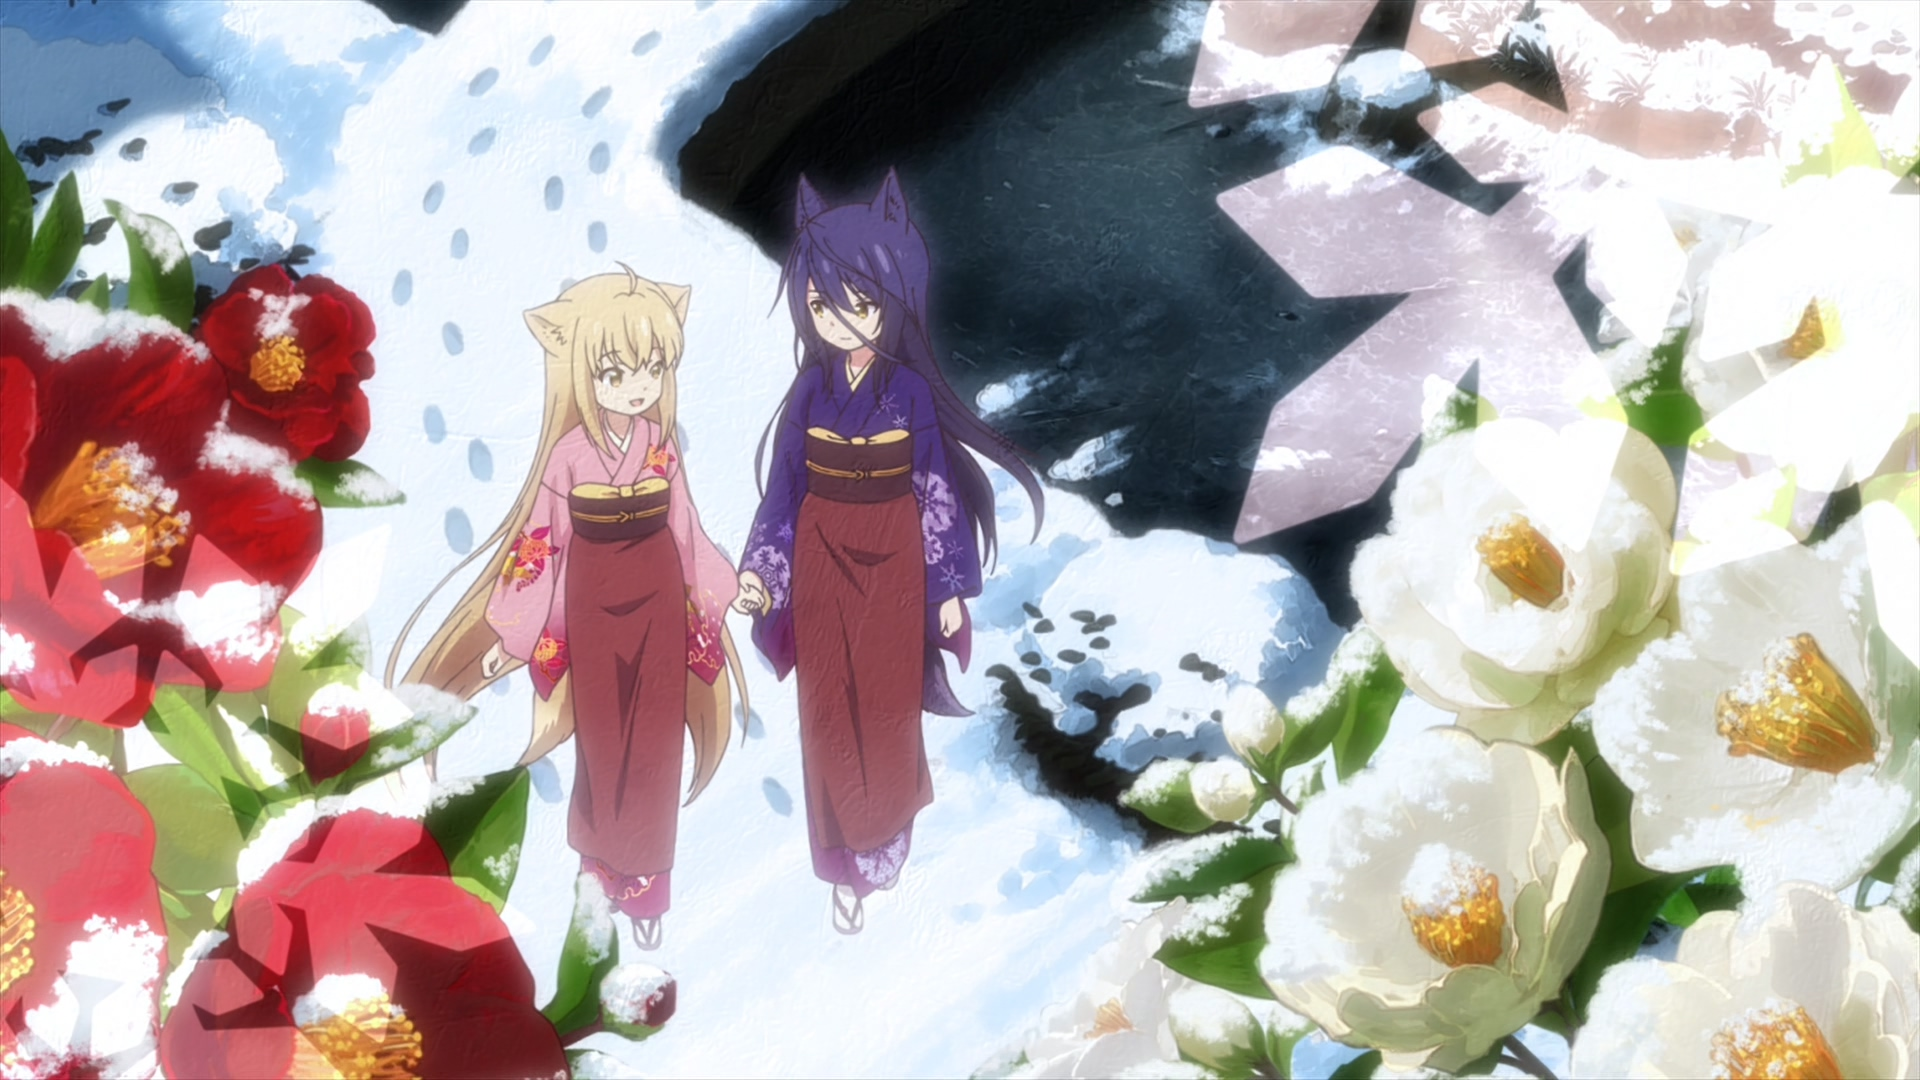柚: (382, 260, 760, 953)
皋: (733, 169, 1044, 934)
